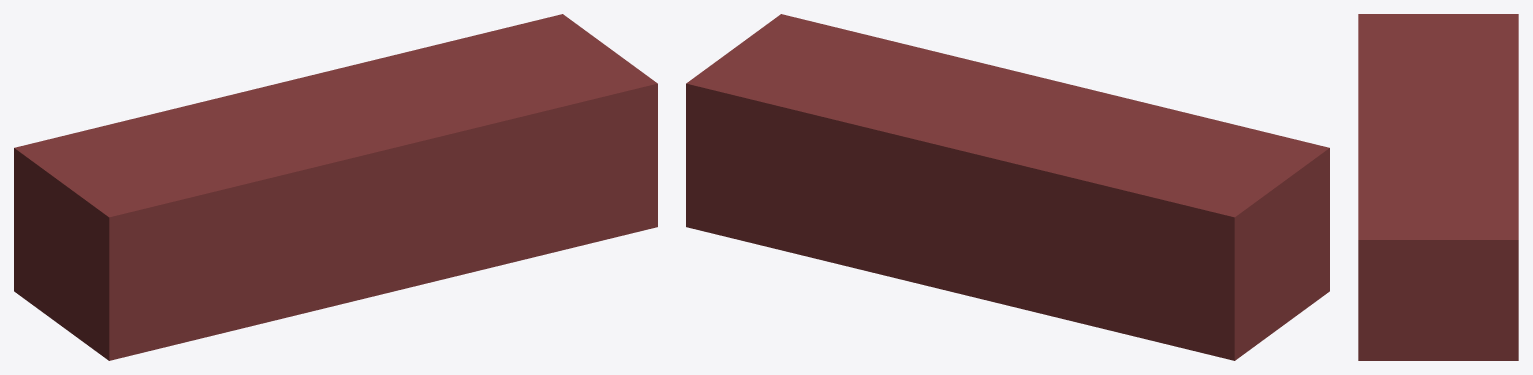
Rendered from mouth_line.glb.
The picture shows the model from 3 angles, left to right: view 1: azimuth 30°, elevation 25°; view 2: azimuth 150°, elevation 25°; view 3: azimuth 270°, elevation 25°; orthographic projection. The views are drawn at different scales.
Parts seen in each view (by area): view 1: Head; view 2: Head; view 3: Head.
Part boxes in pixels (x1=…): Head: x1=14, y1=14, x2=657, y2=360; Head: x1=686, y1=14, x2=1329, y2=360; Head: x1=1358, y1=14, x2=1518, y2=360.
Bounding box in the file's own units: 0.1 × 0.025 × 0.03.
